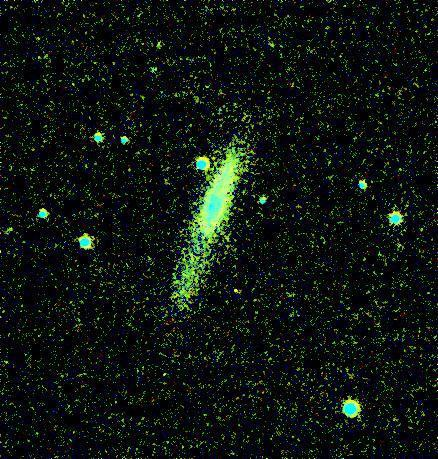star: (255, 28, 285, 58)
